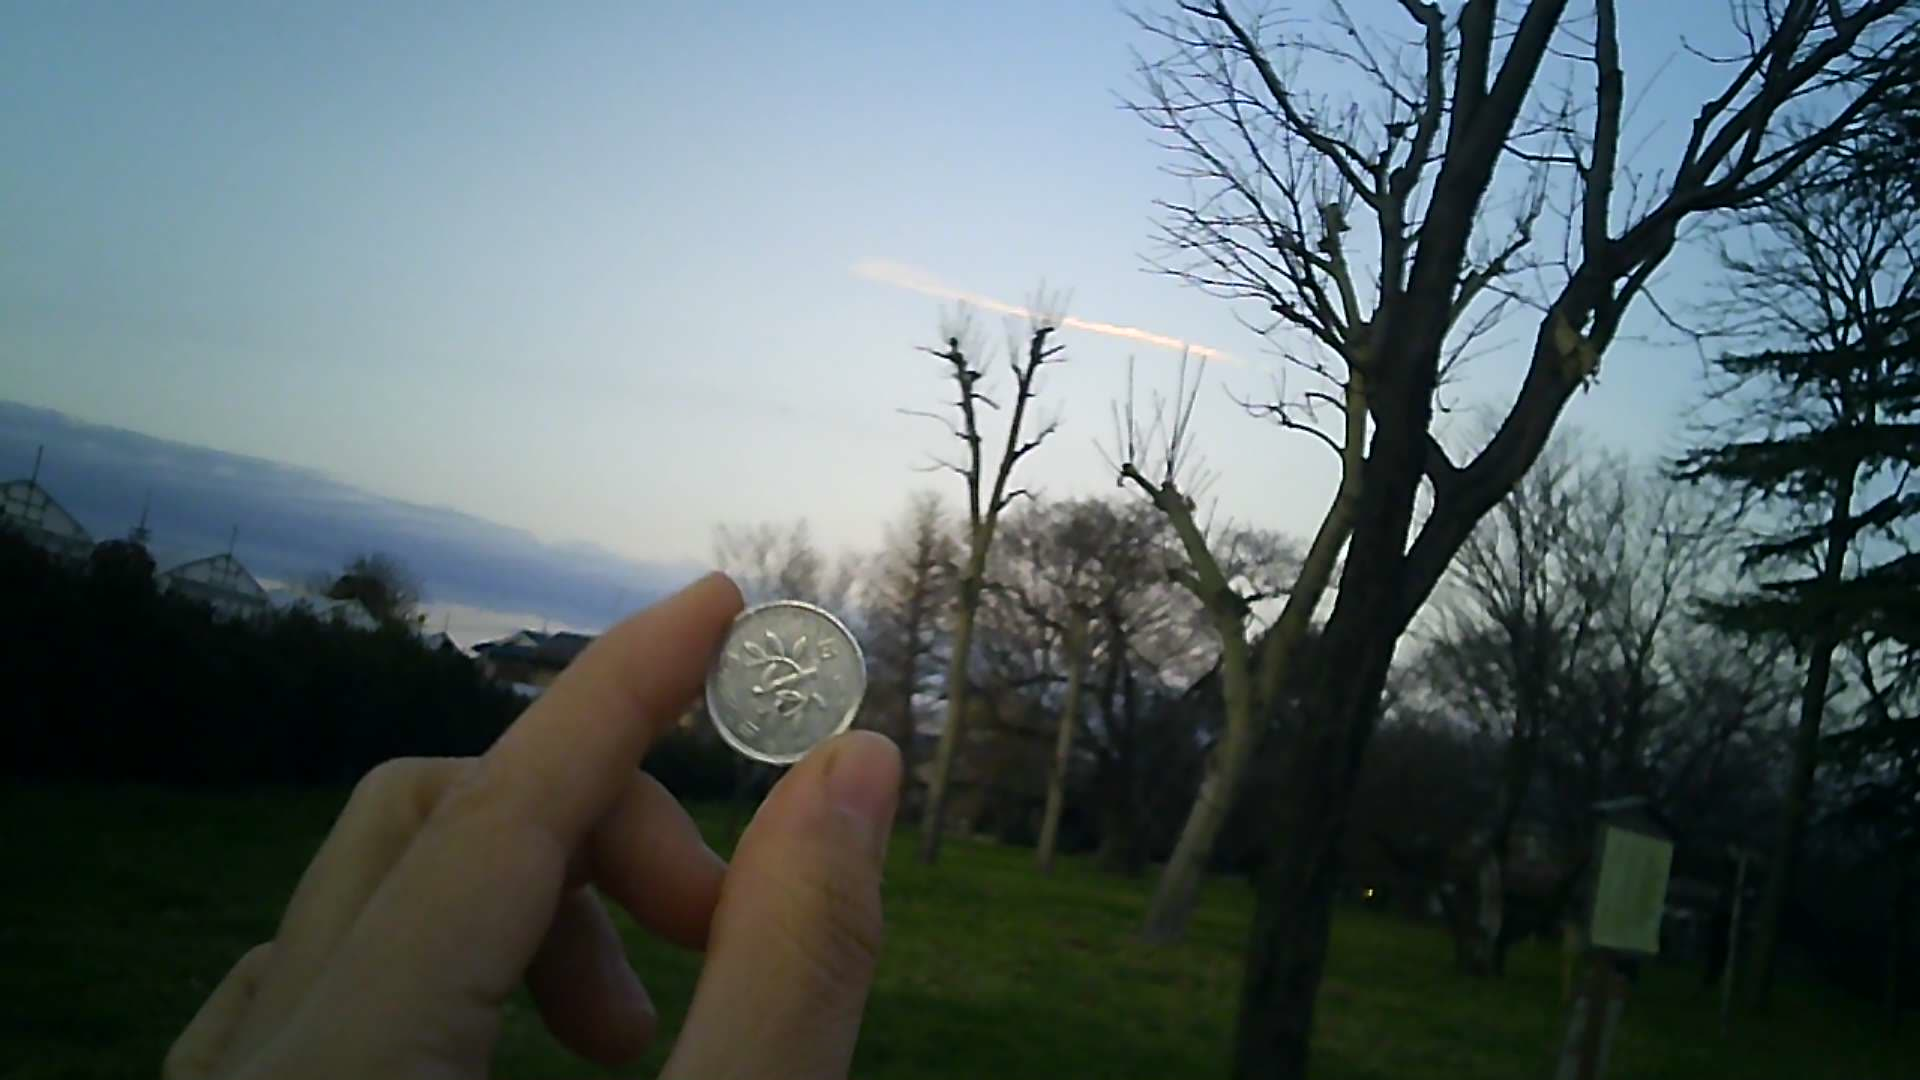1 Yen: (696, 579, 872, 764)
